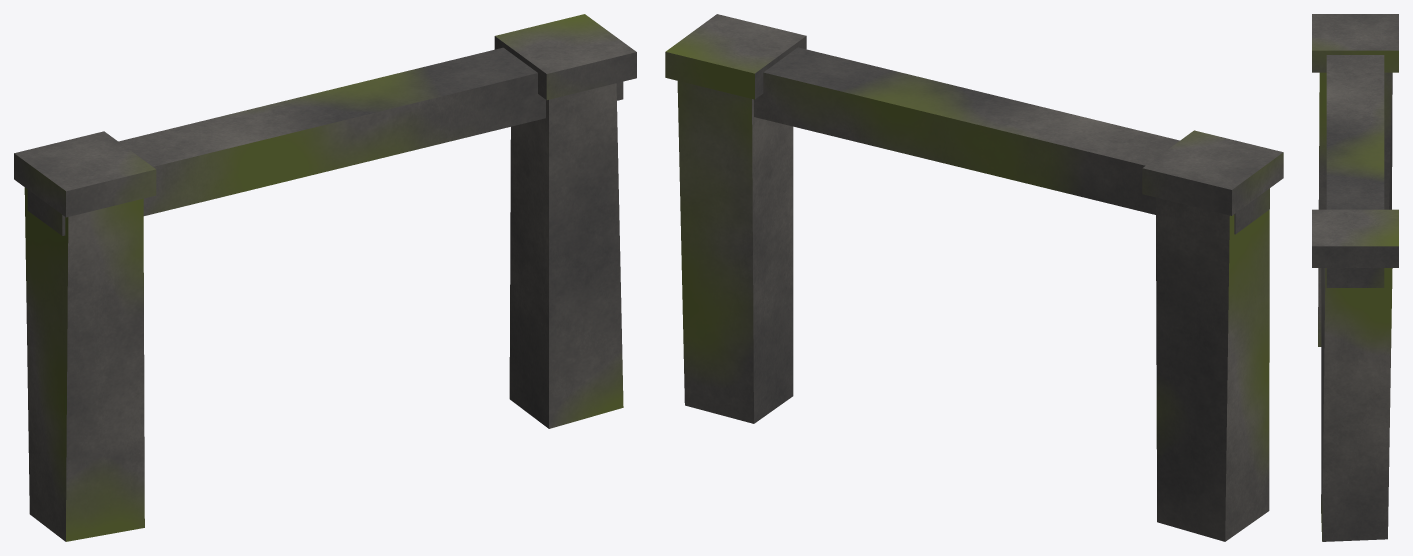
File: gate_frame.glb
The picture shows the model from 3 angles, left to right: view 1: azimuth 30°, elevation 25°; view 2: azimuth 150°, elevation 25°; view 3: azimuth 270°, elevation 25°; orthographic projection. The views are drawn at different scales.
Parts seen in each view (by area): view 1: gate_frame_1; view 2: gate_frame_1; view 3: gate_frame_1.
Part boxes in pixels (box(x1,y1,x2,y2)): gate_frame_1: box(14, 14, 636, 541); gate_frame_1: box(665, 14, 1283, 541); gate_frame_1: box(1312, 14, 1398, 541).
Bounding box in the file's own units: 5.7 × 3.44 × 0.9.
2 materials, 2 textured.
